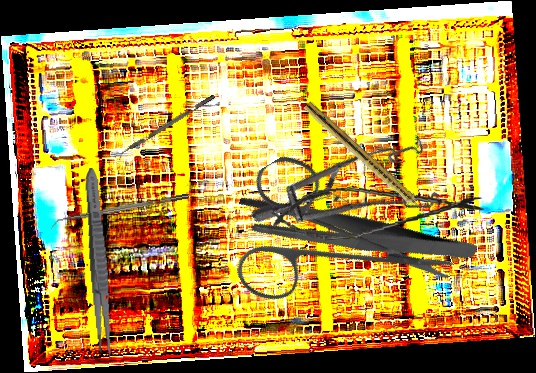Chopper: (115, 94, 219, 162), (49, 193, 191, 230)
Dressing Forceps: (230, 146, 479, 320), (80, 167, 118, 362)
Handpiece: (301, 100, 431, 220)
Iris Scissors: (196, 109, 459, 370)
Micro Scissor: (265, 175, 489, 246)
Speculum: (248, 94, 463, 305)
